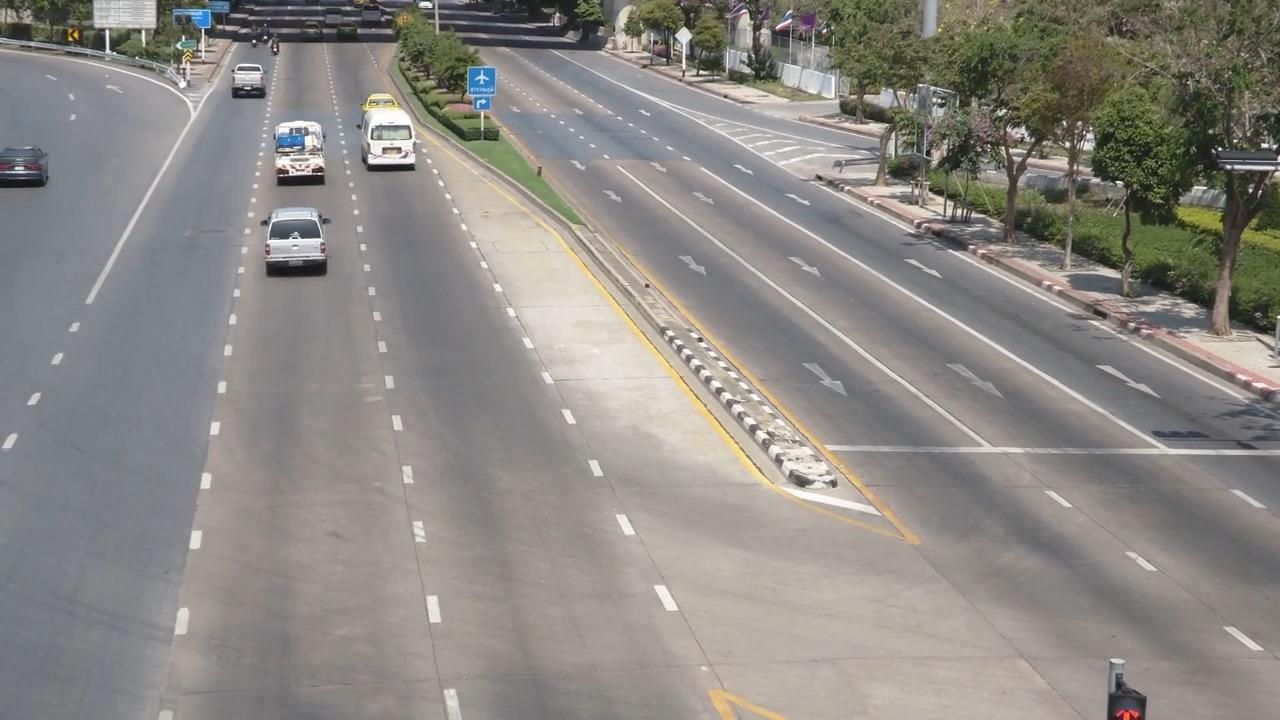CAR: (252, 195, 347, 305), (260, 115, 341, 193), (367, 112, 434, 185), (0, 135, 61, 200), (226, 61, 275, 111), (356, 1, 398, 42), (363, 90, 409, 123), (295, 11, 332, 48)
